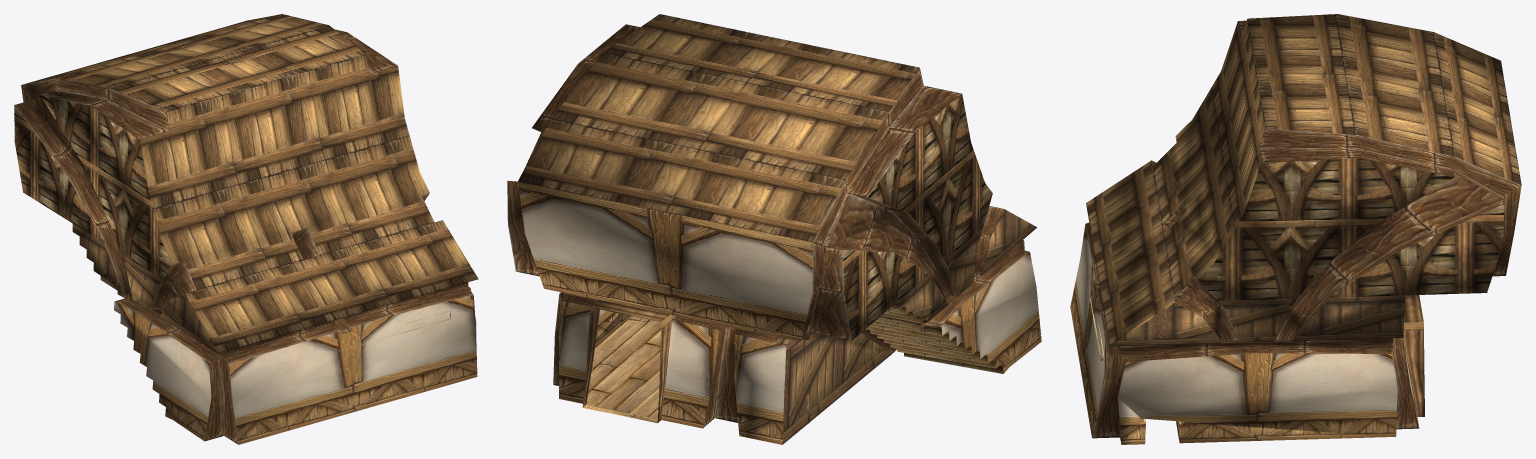
Rendered from stormwind_109.fbx.
3 views of the same model, side by side, from view 1: azimuth 30°, elevation 25°; view 2: azimuth 150°, elevation 25°; view 3: azimuth 270°, elevation 25° (orthographic). The views are drawn at different scales.
Visible parts, largest first — view 1: stormwind_109_55, stormwind_109_48, stormwind_109_53, stormwind_109_49, stormwind_109_56; view 2: stormwind_109_55, stormwind_109_48, stormwind_109_53, stormwind_109_49, stormwind_109_56, stormwind_109_51; view 3: stormwind_109_55, stormwind_109_49, stormwind_109_48, stormwind_109_53, stormwind_109_56.
Boxes of the visible parts, <box> form: stormwind_109_55: <box>23,14,478,353</box>; stormwind_109_48: <box>100,276,477,444</box>; stormwind_109_53: <box>14,29,476,444</box>; stormwind_109_49: <box>14,95,171,279</box>; stormwind_109_56: <box>72,224,217,352</box>; stormwind_109_55: <box>518,14,919,242</box>; stormwind_109_48: <box>518,181,1041,444</box>; stormwind_109_53: <box>507,24,1029,427</box>; stormwind_109_49: <box>582,94,992,422</box>; stormwind_109_56: <box>782,209,1036,444</box>; stormwind_109_51: <box>586,316,661,419</box>; stormwind_109_55: <box>1086,14,1521,345</box>; stormwind_109_49: <box>1197,158,1504,416</box>; stormwind_109_48: <box>1070,224,1418,444</box>; stormwind_109_53: <box>1085,20,1521,443</box>; stormwind_109_56: <box>1110,295,1405,442</box>.
Size of the model in its own units: 15.48 by 13.56 by 18.89.
